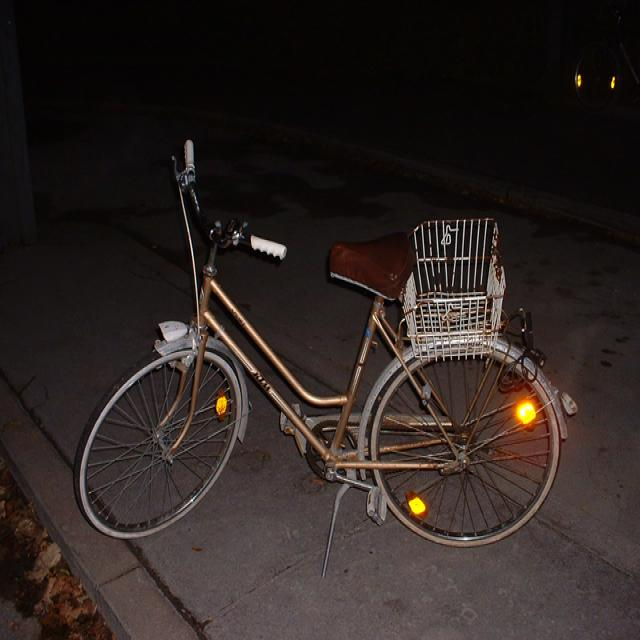bicycle: (72, 137, 578, 576)
